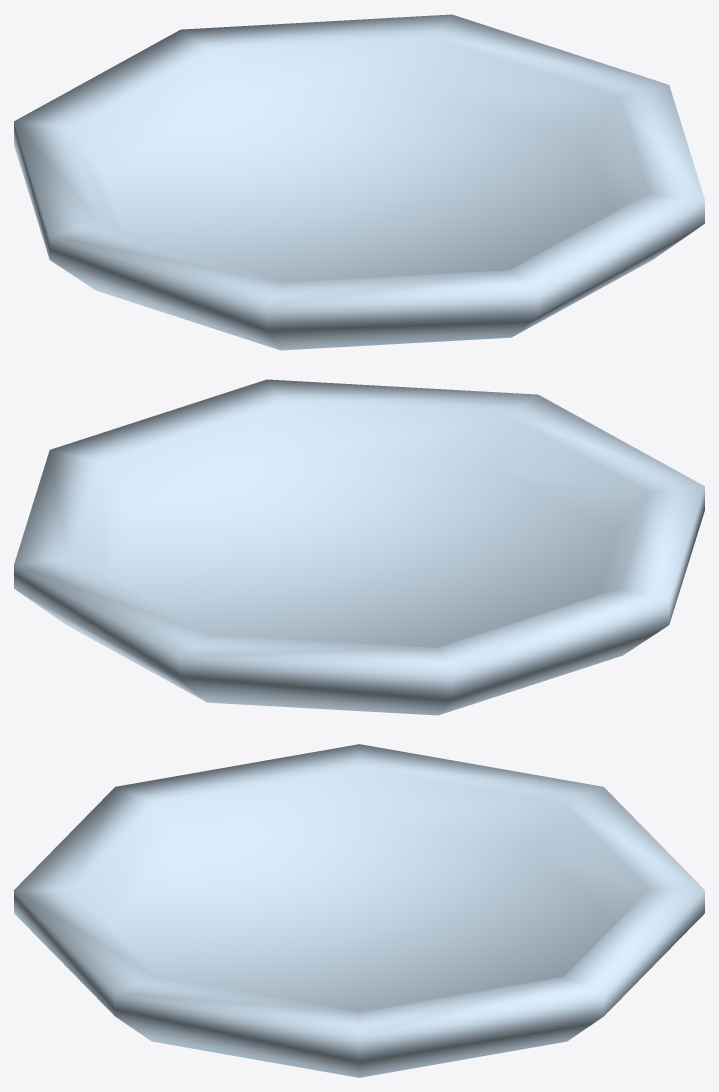
File: Plate_kitchen_v2.fbx
The picture shows the model from 3 angles, top to bottom: view 1: azimuth 30°, elevation 25°; view 2: azimuth 150°, elevation 25°; view 3: azimuth 270°, elevation 25°; orthographic projection. The views are drawn at different scales.
Parts seen in each view (by area): view 1: Cylinder.002; view 2: Cylinder.002; view 3: Cylinder.002.
Part boxes in pixels (x1,y1,x2,y2): Cylinder.002: [14, 14, 704, 350]; Cylinder.002: [14, 379, 704, 715]; Cylinder.002: [14, 744, 704, 1077].
Bounding box in the file's own units: 37 × 3.76 × 37.
